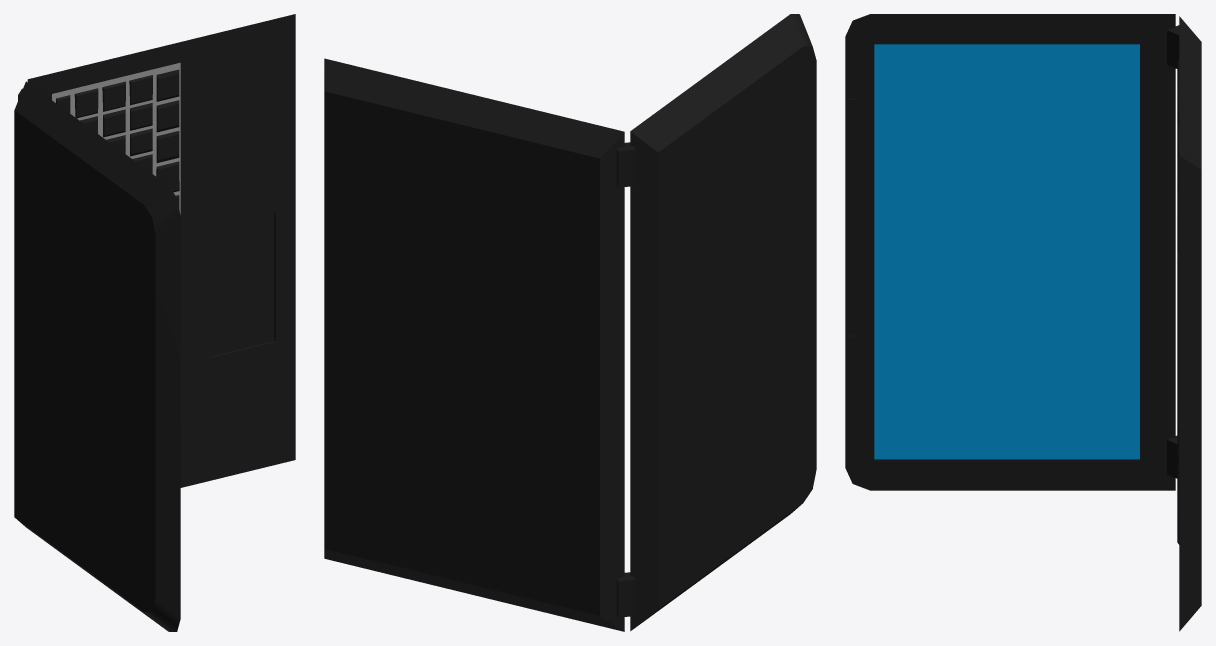
File: laptop.gltf
3 views of the same model, side by side, from view 1: azimuth 30°, elevation 25°; view 2: azimuth 150°, elevation 25°; view 3: azimuth 270°, elevation 25° (orthographic). The views are drawn at different scales.
Parts seen in each view (by area): view 1: node-0; view 2: node-0; view 3: node-0.
Boxes of the visible parts, x1,y1,x2,y2 form: node-0: (14,14,295,631); node-0: (324,14,816,631); node-0: (845,14,1201,631).
Size of the model in its own units: 85.63 by 126 by 85.47.
